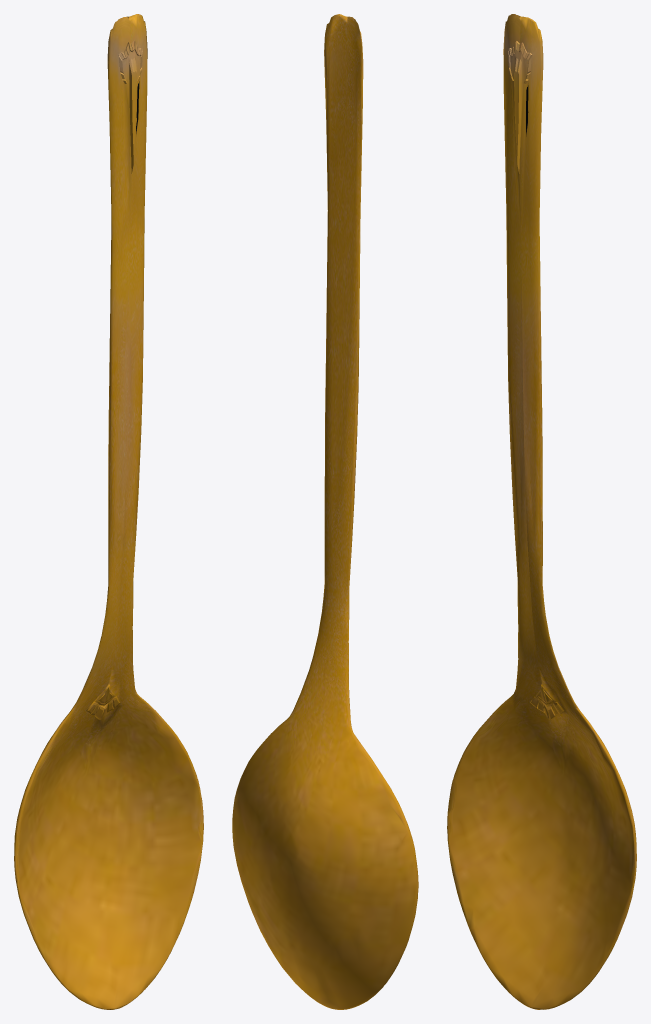
Rendered from Spoon2.fbx.
3 renders of one model, left to right at view 1: azimuth 30°, elevation 25°; view 2: azimuth 150°, elevation 25°; view 3: azimuth 330°, elevation 25°, orthographic.
Visible parts, largest first — view 1: Spoon2; view 2: Spoon2; view 3: Spoon2.
Part boxes in pixels (x1=…): Spoon2: x1=14, y1=14, x2=203, y2=1009; Spoon2: x1=232, y1=14, x2=418, y2=1009; Spoon2: x1=447, y1=14, x2=636, y2=1009.
Size of the model in its own units: 48.04 by 244 by 24.24.
